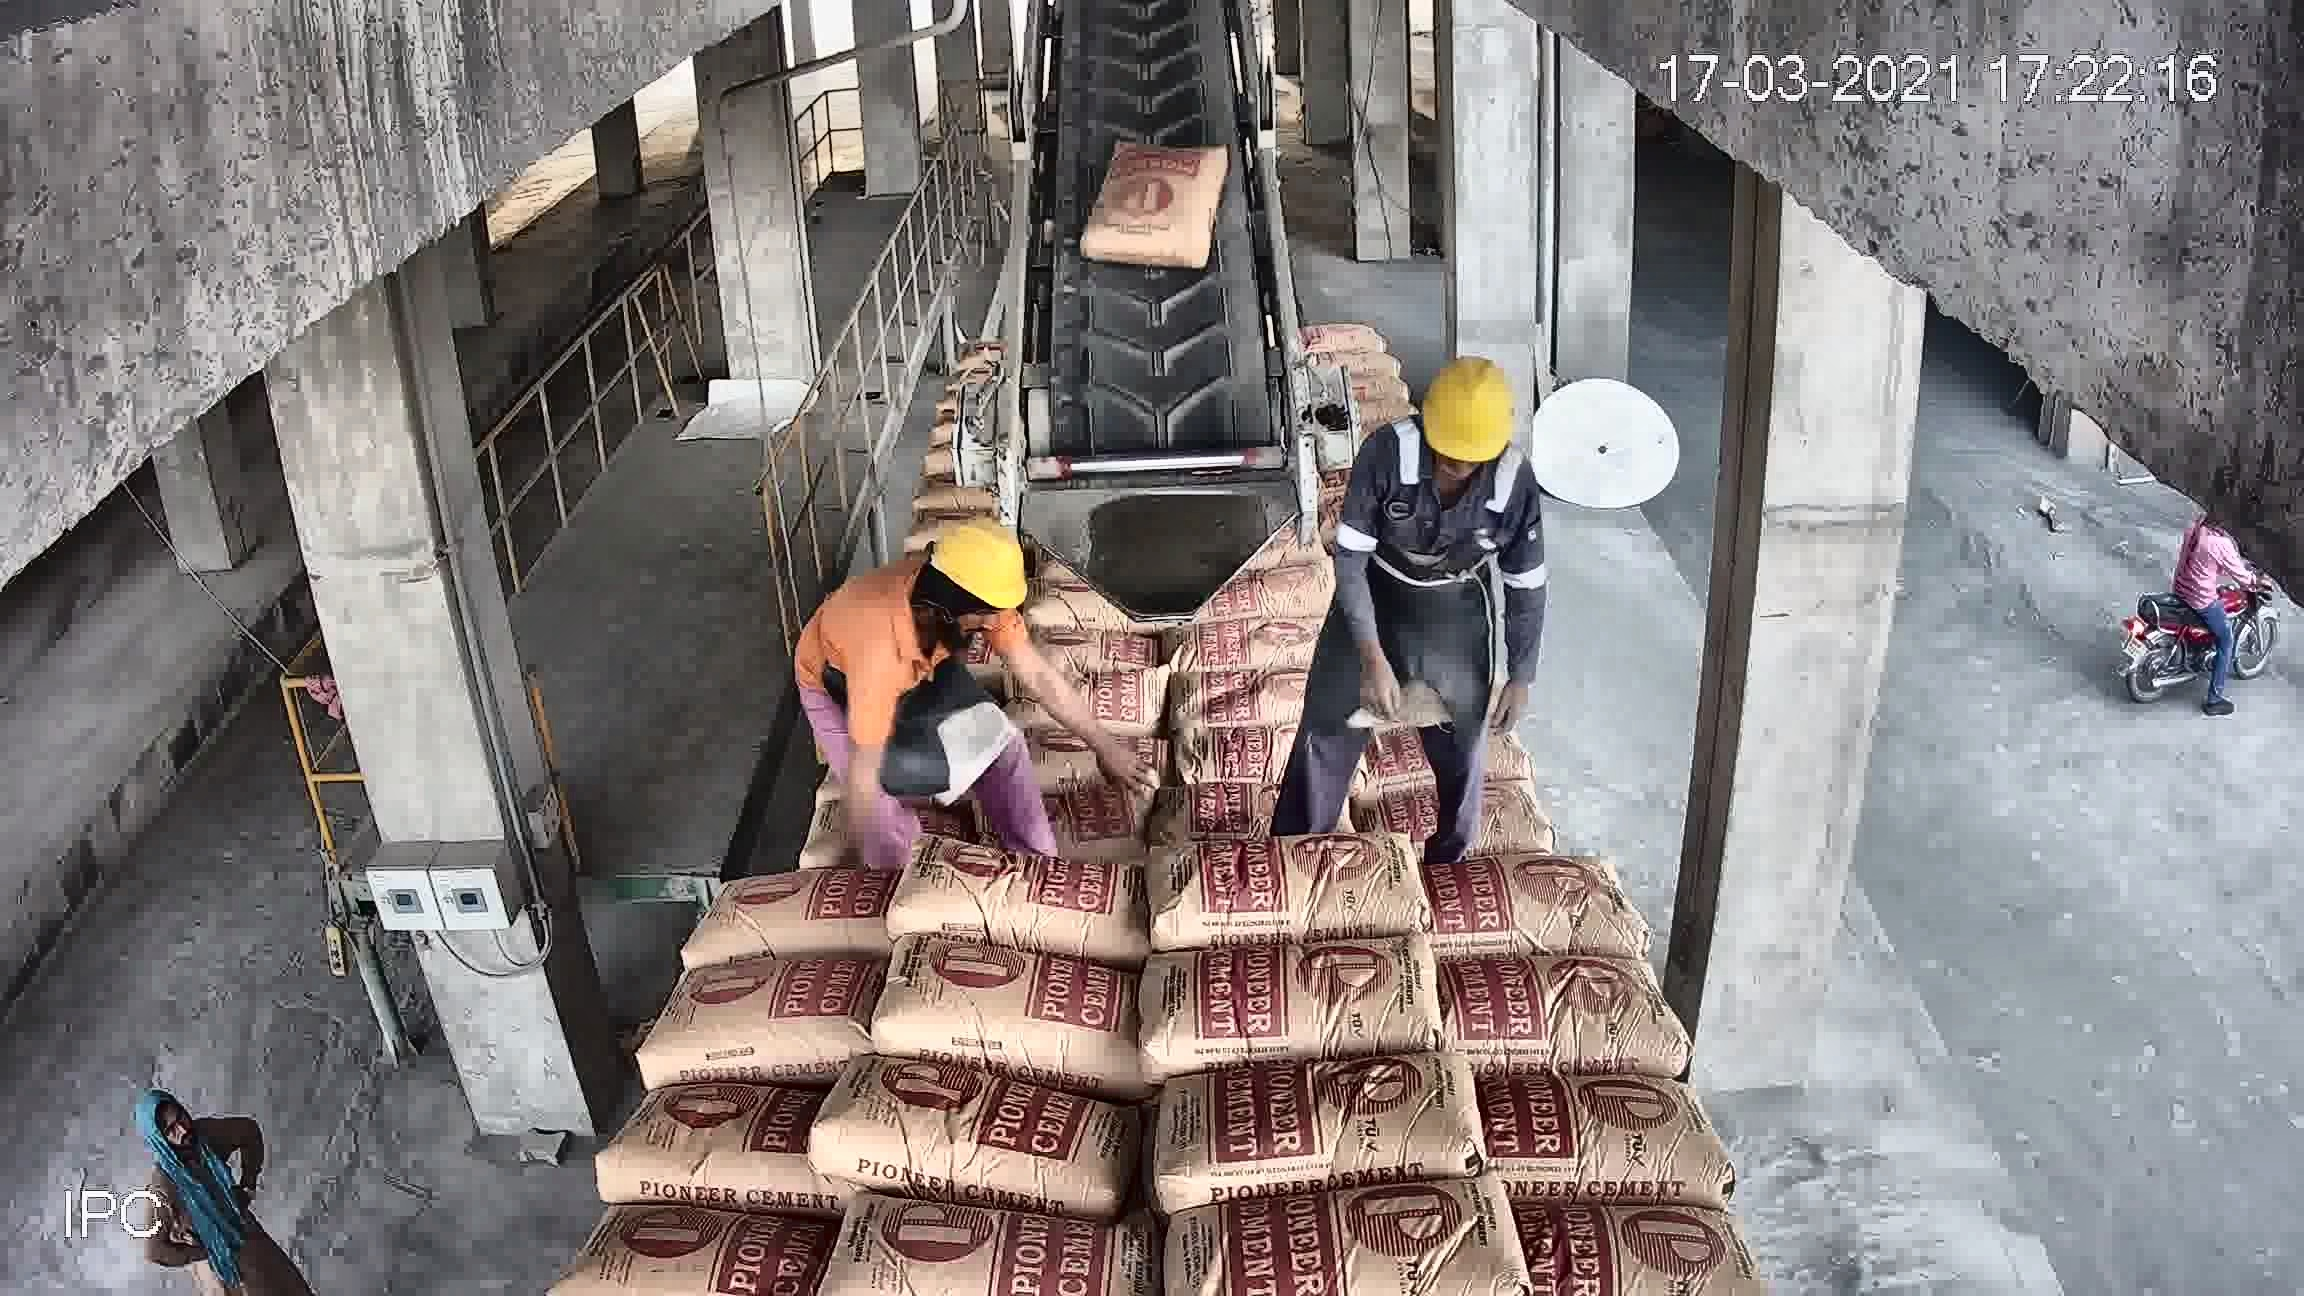bag: (972, 476, 1165, 603)
bag_h: (1173, 1032, 1465, 1201), (1152, 1169, 1521, 1296), (1124, 916, 1443, 1060), (815, 1074, 1128, 1211), (1143, 813, 1443, 927), (864, 956, 1139, 1079), (600, 1089, 826, 1223), (1124, 728, 1380, 847), (638, 961, 870, 1090), (1505, 1054, 1722, 1192), (853, 1196, 1138, 1296), (1516, 1185, 1769, 1296), (862, 858, 1152, 948), (1467, 946, 1671, 1071), (908, 756, 1154, 858), (589, 1203, 843, 1296), (649, 862, 888, 957), (1396, 763, 1593, 872), (1163, 658, 1377, 753), (715, 698, 926, 788), (729, 779, 907, 881), (923, 688, 1147, 763), (1440, 850, 1608, 945), (1369, 687, 1549, 771), (1340, 589, 1497, 666), (1355, 544, 1476, 623), (1361, 646, 1497, 696), (1339, 529, 1478, 576), (1324, 449, 1465, 494), (859, 616, 943, 690), (1347, 487, 1465, 530), (1343, 385, 1427, 438), (1334, 419, 1431, 464)
belt: (1052, 14, 1282, 454)
